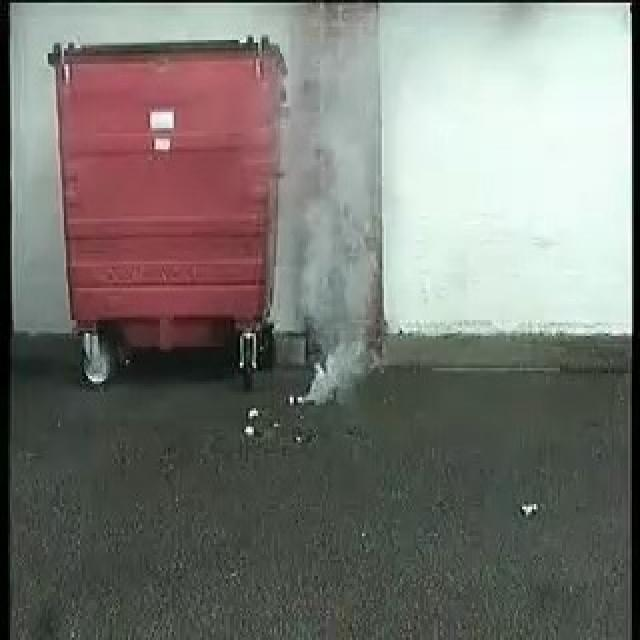smoke: (273, 120, 403, 406)
